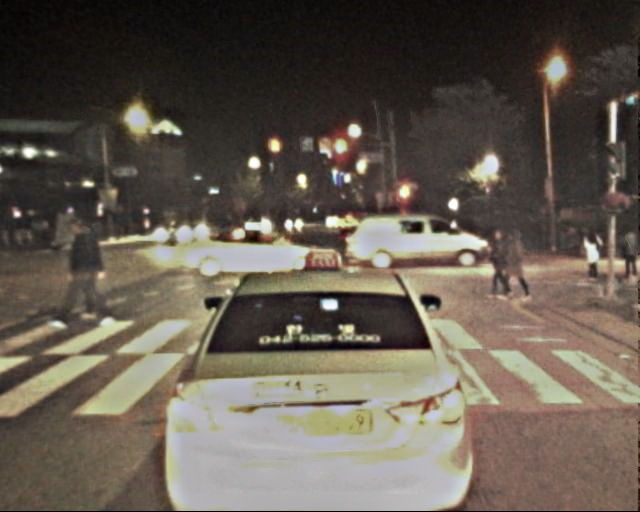person: (68, 214, 113, 323), (500, 227, 530, 301), (486, 229, 514, 297), (580, 228, 604, 286), (618, 226, 640, 281)
